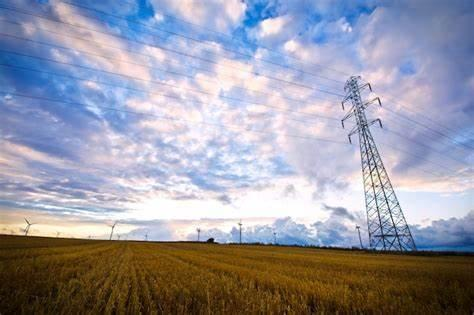power_tower: (342, 71, 421, 256)
